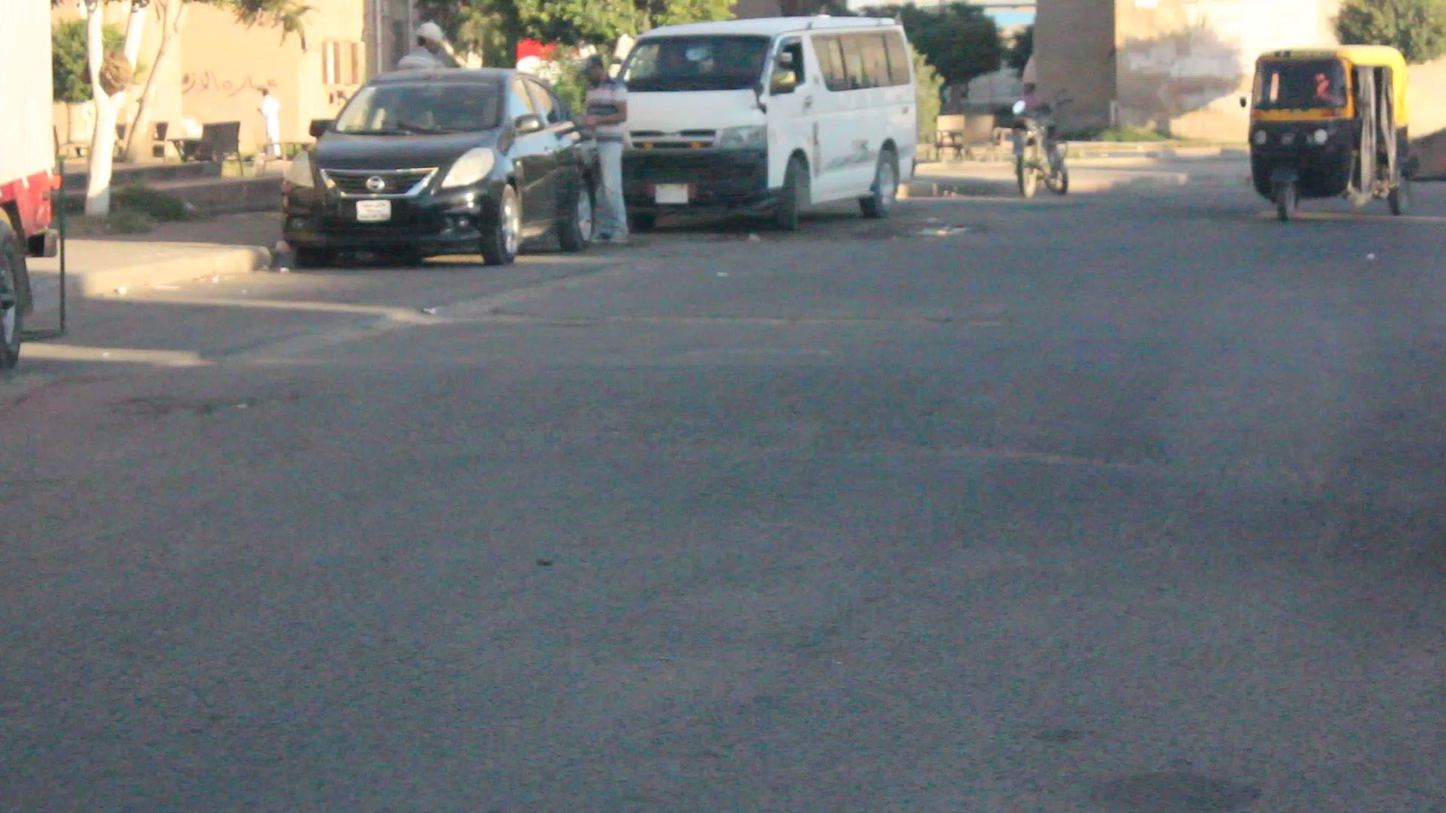Bump: (320, 358, 1446, 465)
